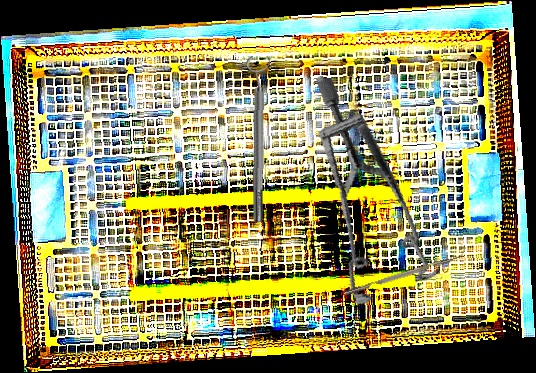Chopper: (342, 247, 469, 296)
Fixation Ring: (243, 55, 273, 223)
Speculum: (264, 74, 480, 322)
